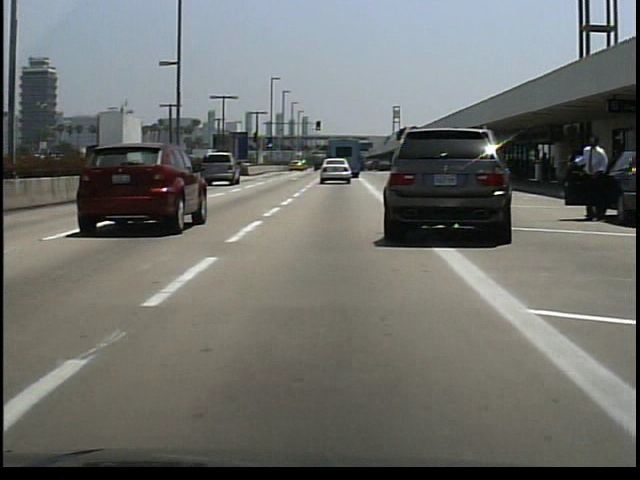person: (567, 133, 609, 225)
